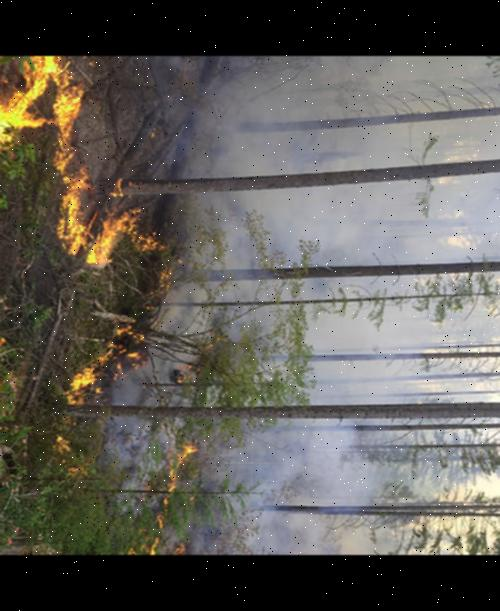fire: (0, 55, 246, 553)
